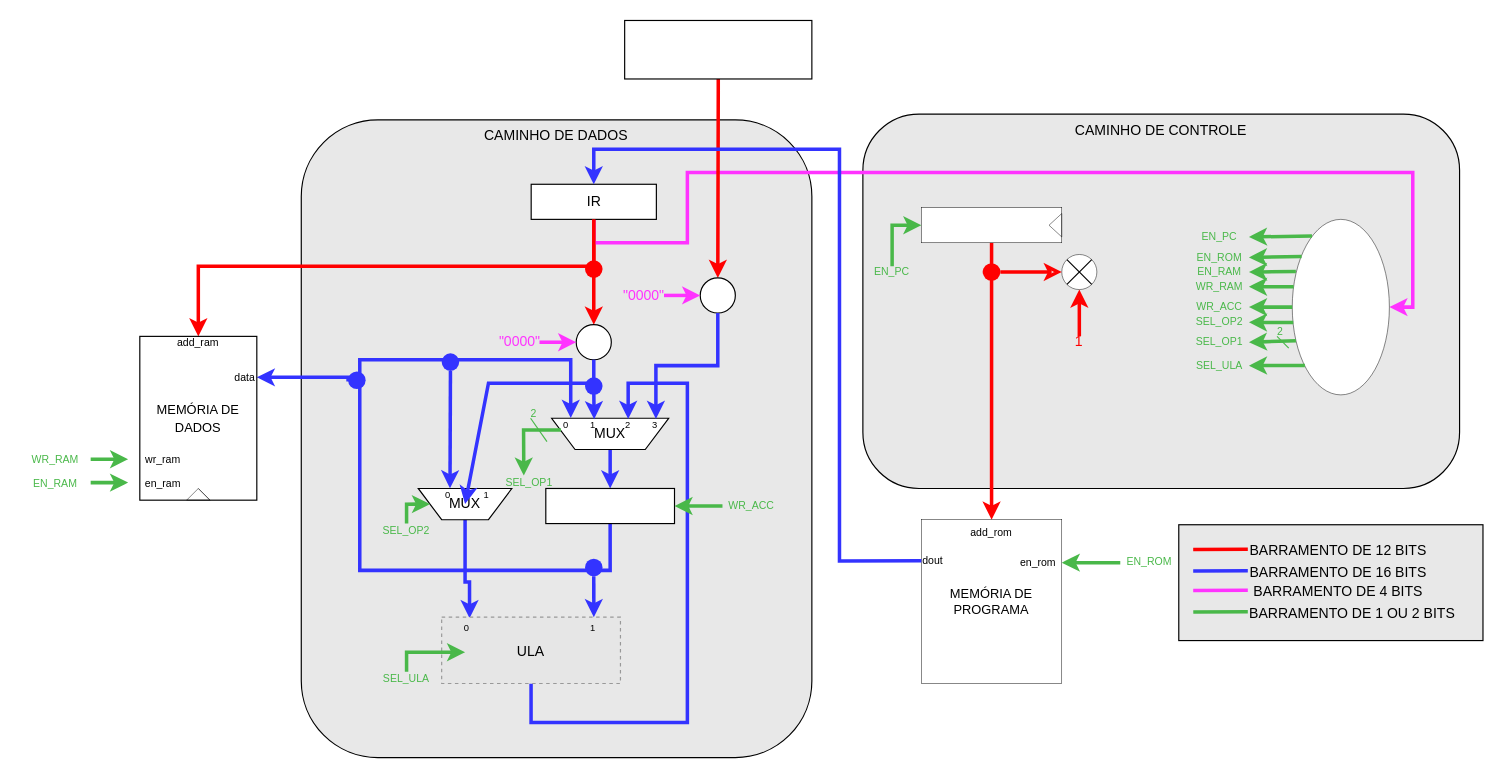
Image size: 1503x778. Some labels were removed from this diagram. Grey dashed boxes stand in for pictures. Each missing label, with the centre of its shape:
"ACC" belongs at point 610,505.
"Botões 11~0" belongs at point 717,49.
"LÓGICA DE CONTROLE" belongs at point 1340,307.
"PC" belongs at point 991,224.
